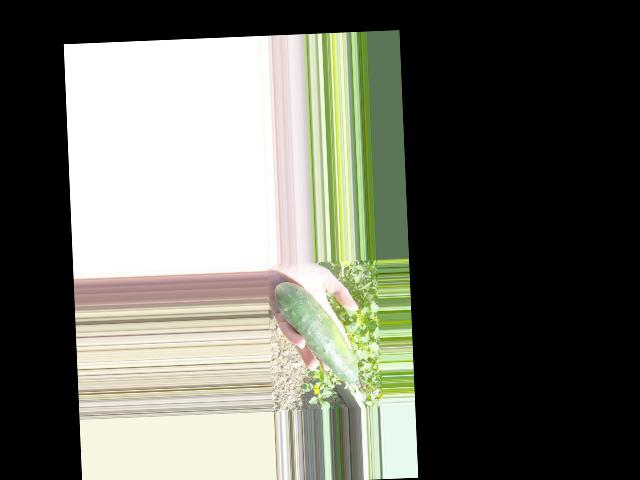cucumber: (274, 280, 358, 386)
